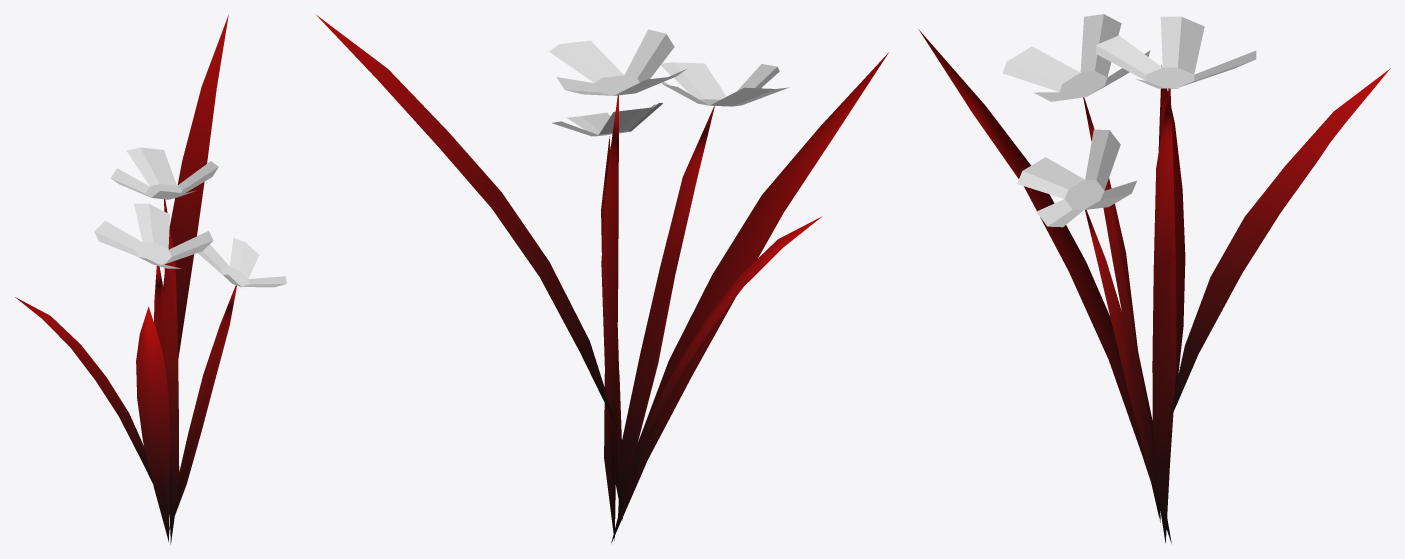
File: Flower 2.fbx
3 renders of one model, left to right at view 1: azimuth 30°, elevation 25°; view 2: azimuth 150°, elevation 25°; view 3: azimuth 270°, elevation 25°, orthographic. The views are drawn at different scales.
Parts seen in each view (by area): view 1: Flower 2; view 2: Flower 2; view 3: Flower 2.
Part boxes in pixels (x1,y1,x2,y2): Flower 2: [15, 15, 286, 544]; Flower 2: [316, 15, 888, 543]; Flower 2: [918, 14, 1390, 543].
Size of the model in its own units: 60.5 by 82.89 by 62.47.
